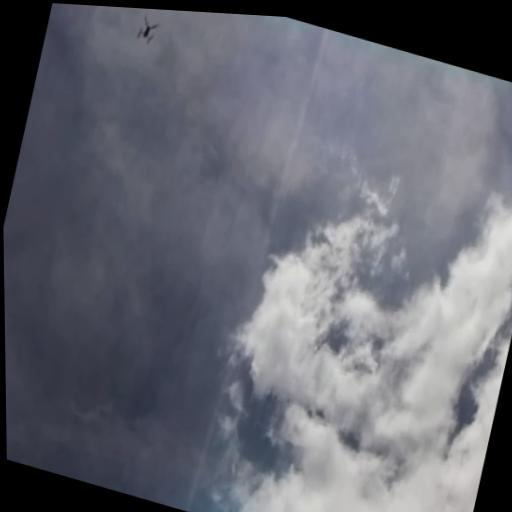drones: (133, 9, 163, 50)
